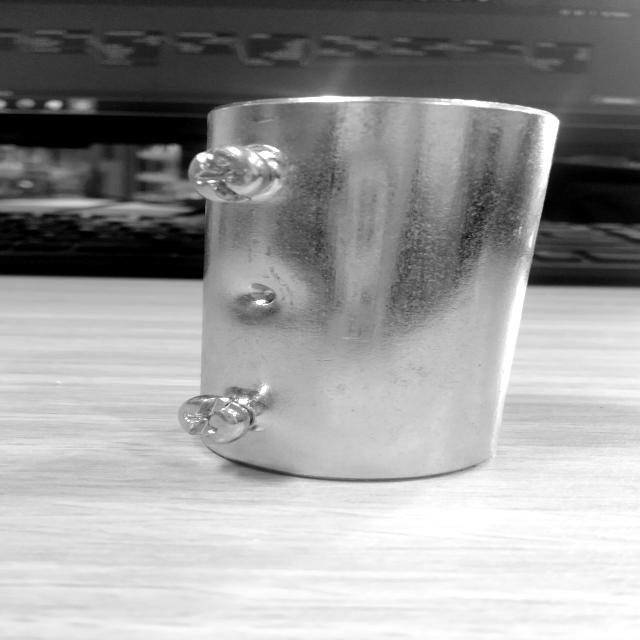Co_Nho: (150, 66, 561, 501)
